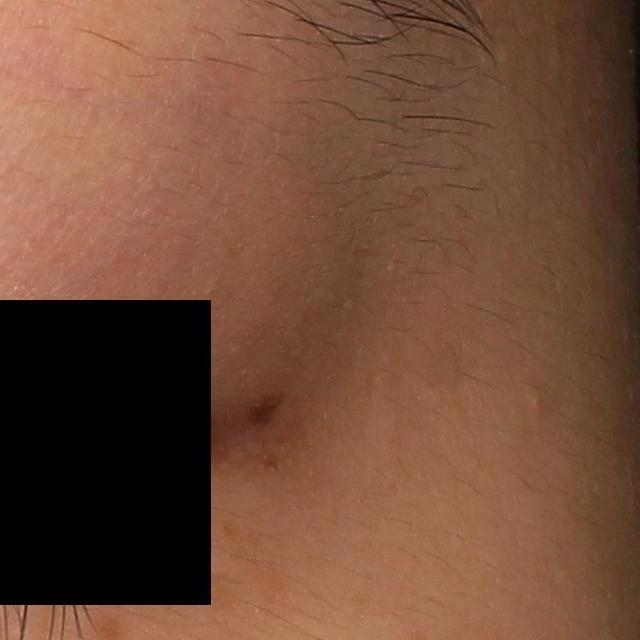atrophic_scar: (244, 390, 291, 427)
comedo: (526, 391, 544, 412)
